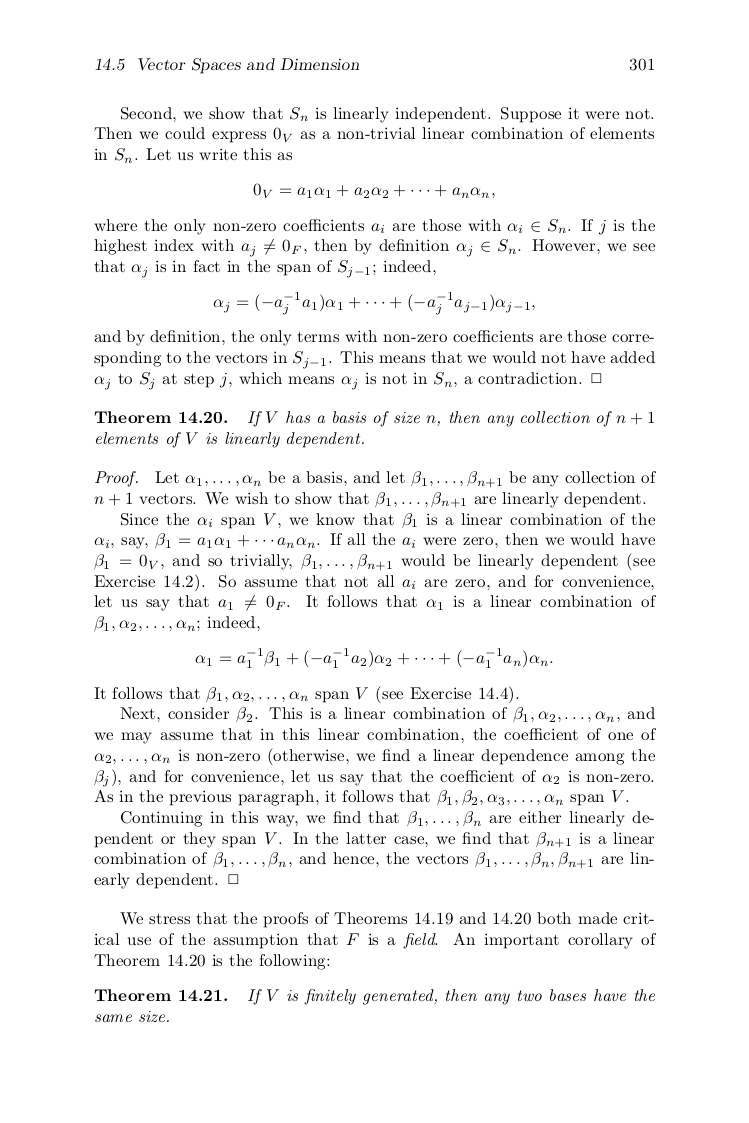formula: (213, 291, 534, 315), (195, 647, 552, 668), (253, 182, 494, 199)
